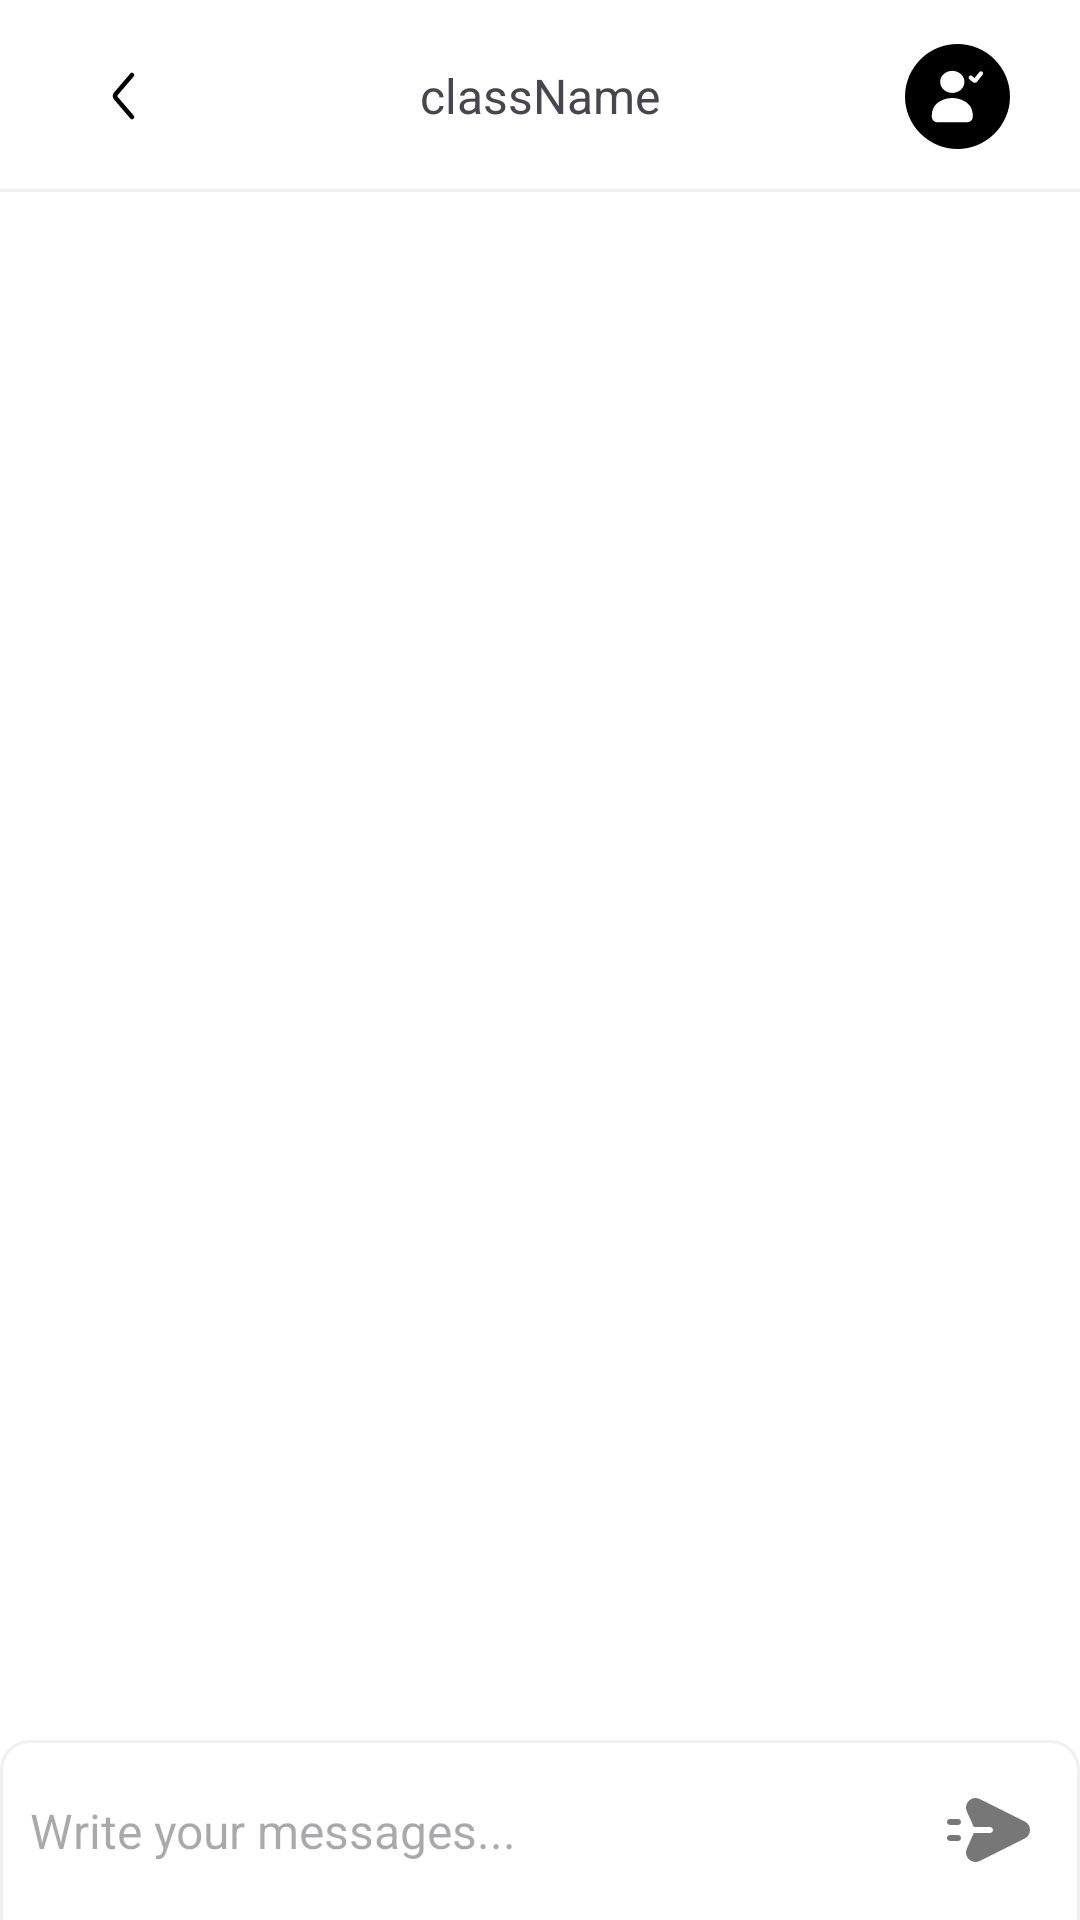

Named icons in this screenshot (1080px x 1920px) and their centers, (x=x, y=y):
attendance: (x=957, y=96)
back: (x=123, y=96)
send: (x=988, y=1830)
